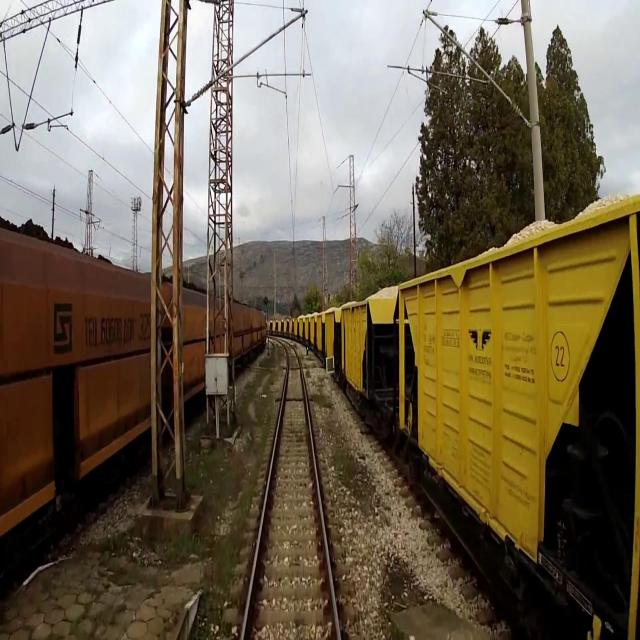rail-track: (244, 346, 336, 639)
